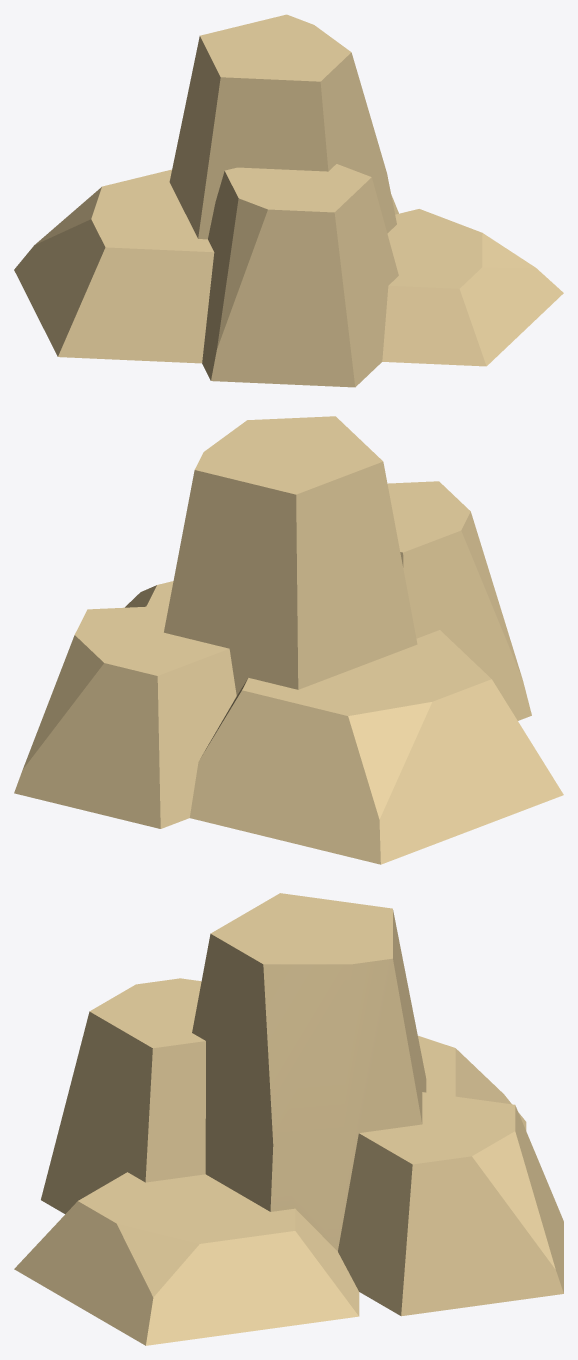
File: rockB.dae
3 renders of one model, top to bottom at view 1: azimuth 30°, elevation 25°; view 2: azimuth 150°, elevation 25°; view 3: azimuth 270°, elevation 25°, orthographic. The views are drawn at different scales.
Parts seen in each view (by area): view 1: rockB; view 2: rockB; view 3: rockB.
Part boxes in pixels (<box>): rockB: <box>14,14,563,387</box>; rockB: <box>14,416,563,864</box>; rockB: <box>14,893,563,1345</box>.
Bounding box in the file's own units: 0.7991 × 0.4186 × 0.7247.
